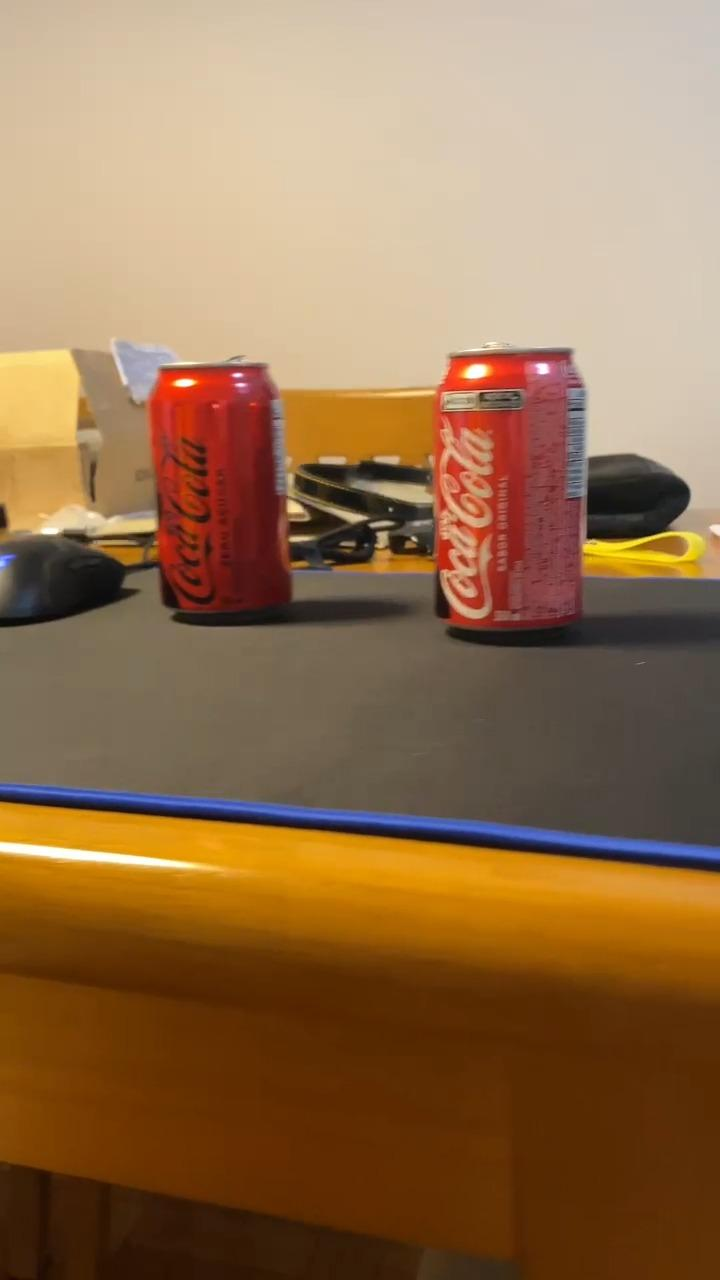coke: (431, 343, 587, 640), (147, 359, 292, 621)
